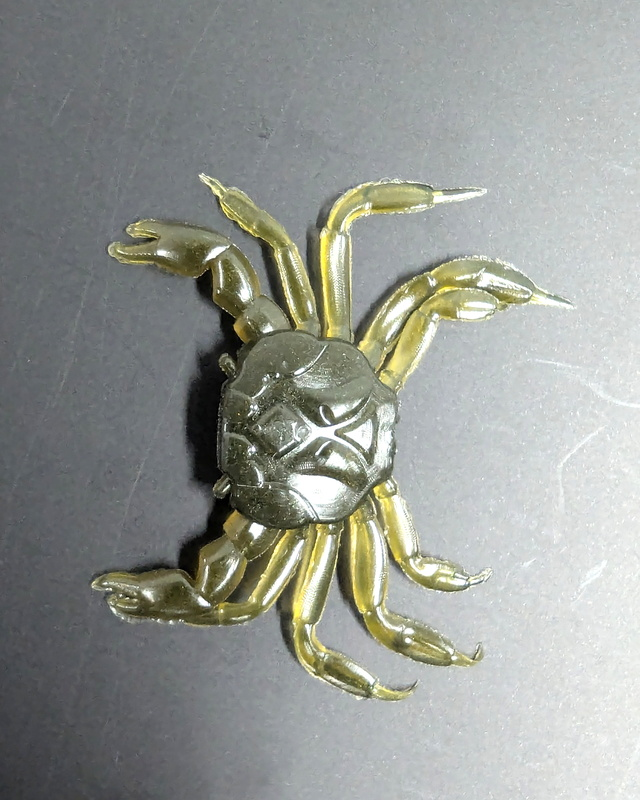crab2: (90, 170, 575, 699)
